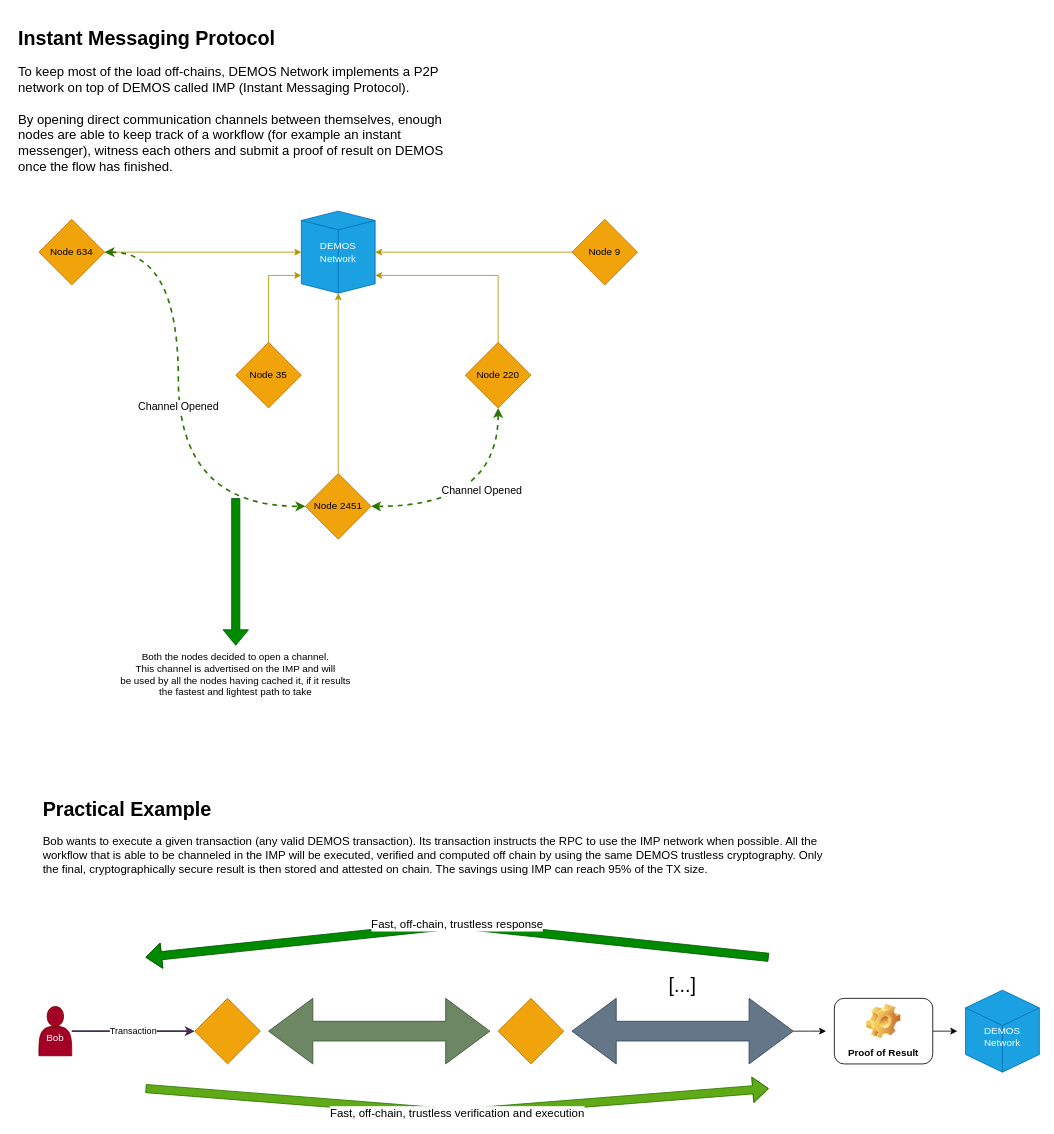
Some shapes in this 1054 by 1134 pixel diagram are drawn without their labels. Each missing label, with the centre of its shape:
"IMP Channel" goes at [379,1031].
"Node" goes at [530,1031].
"RPC Node" goes at [227,1031].
"Subsequent channels" goes at [682,1031].
